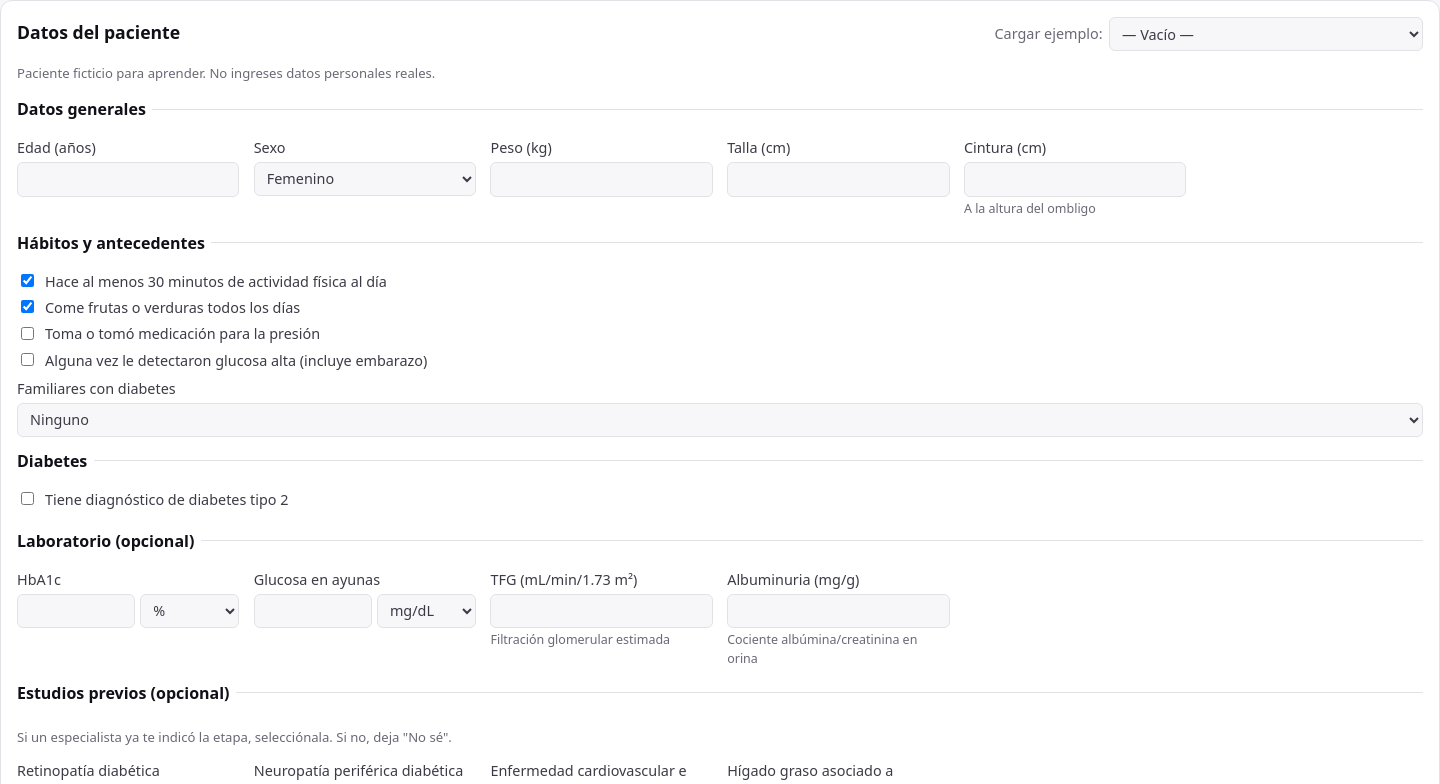
formulario y resultados › un campo obligatorio vacío muestra "Obligatorio" solo después de tocarlo
Expected: the text "Obligatorio" is not shown
Click the field labelled "Edad (años)": (128, 179) [17,162,239,197]
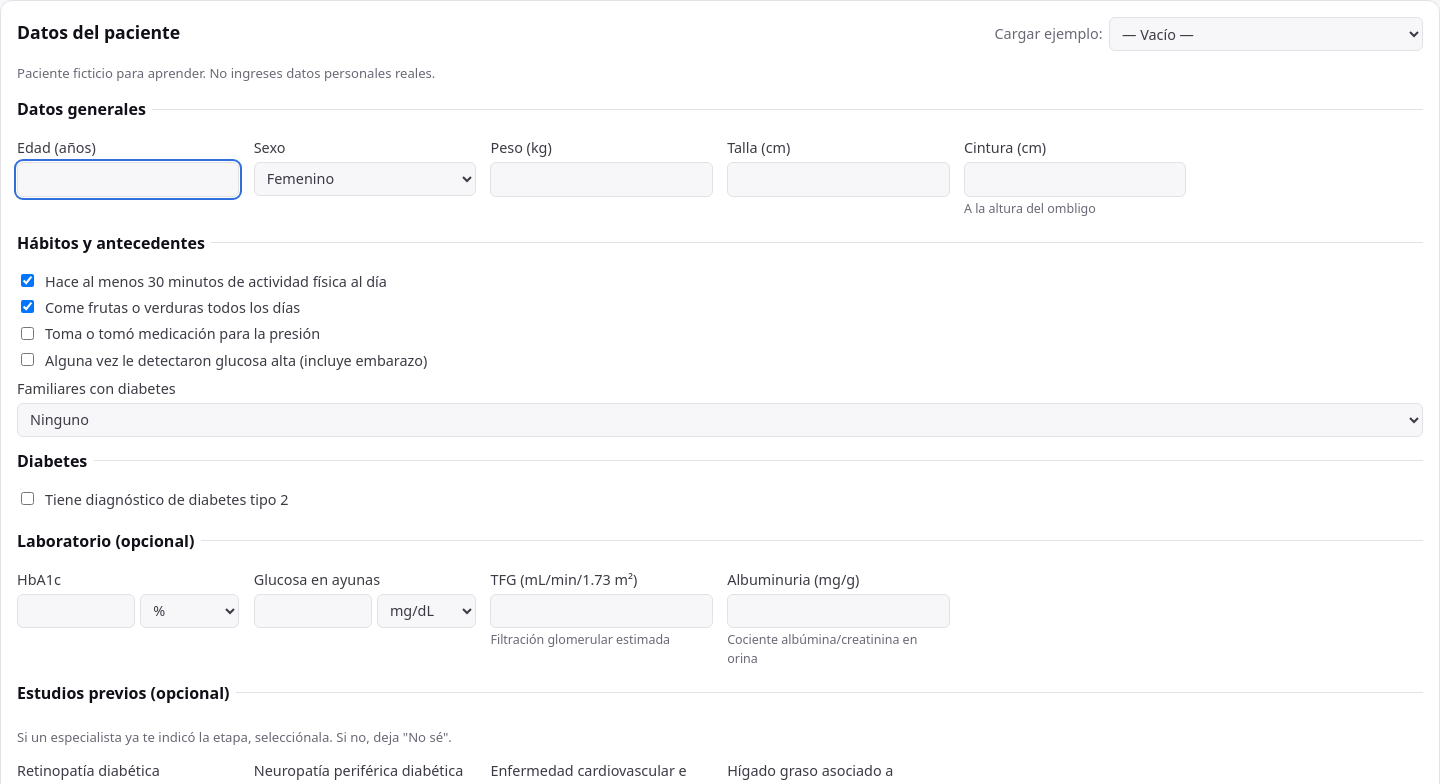
Press Tab
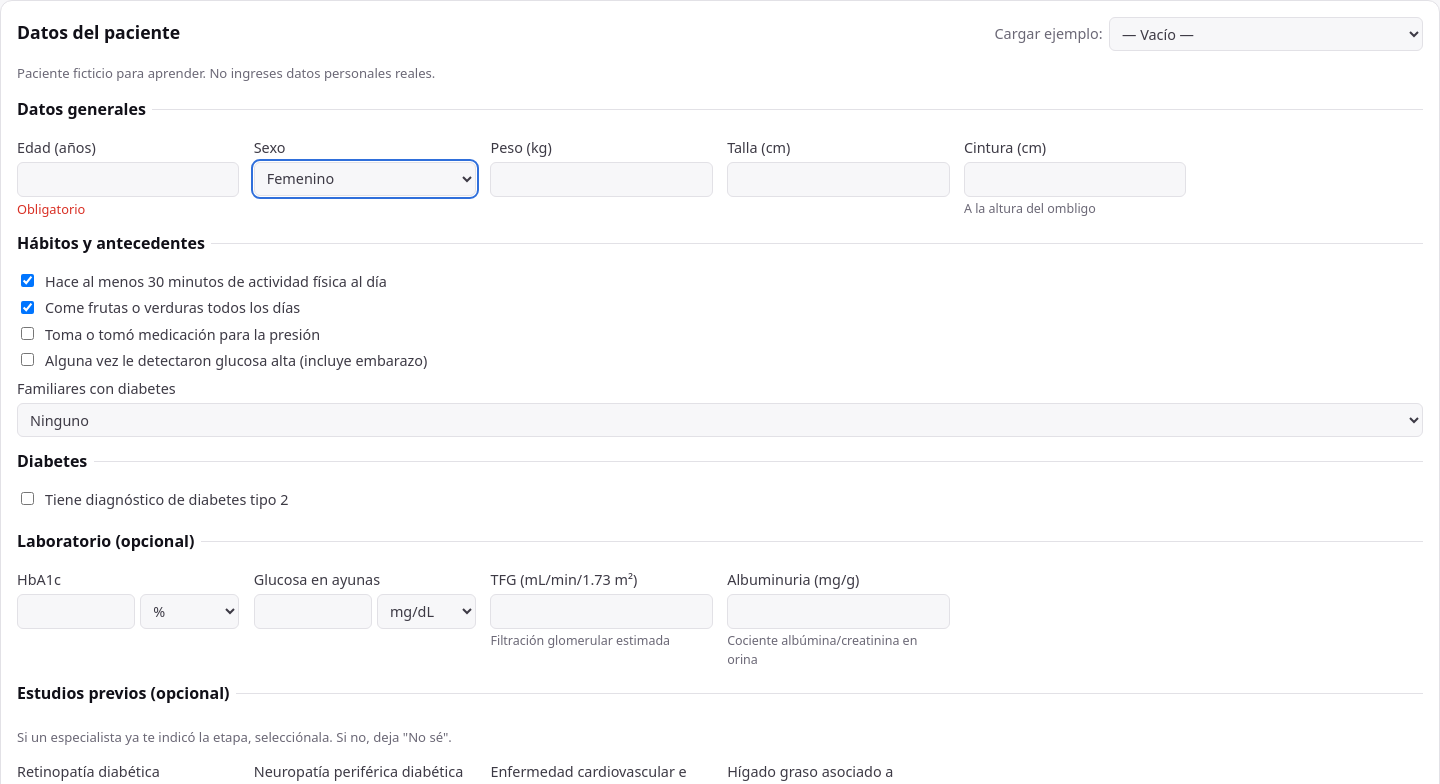
Now the text "Obligatorio" is shown, box [17,200,85,218]
